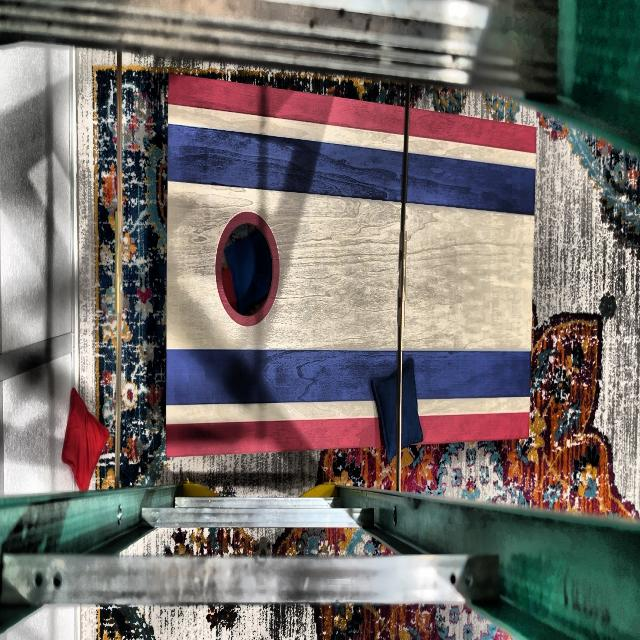blue-bean-bag: (372, 358, 423, 460)
blue-bean-bag-in-hole: (225, 230, 272, 314)
board: (167, 126, 528, 437)
hole: (216, 212, 280, 326)
red-bean-bag: (62, 387, 109, 493)
red-bean-bag-in-hole: (221, 269, 238, 312)
